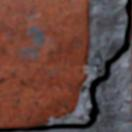brick: (0, 0, 88, 127), (130, 18, 131, 111)
crack: (0, 0, 131, 131)
